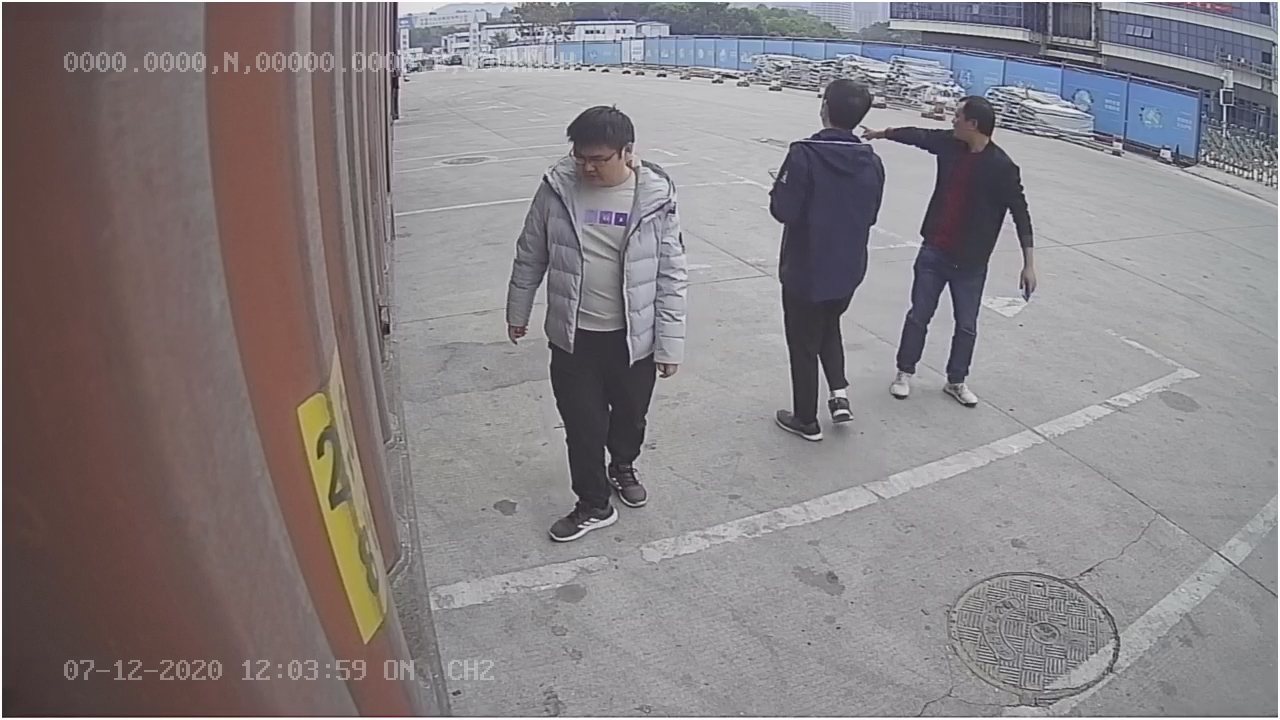person: (502, 99, 693, 547), (763, 71, 890, 445)
